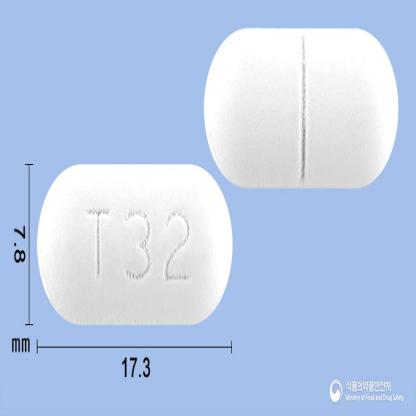pill: (35, 163, 234, 325), (203, 25, 400, 188)
